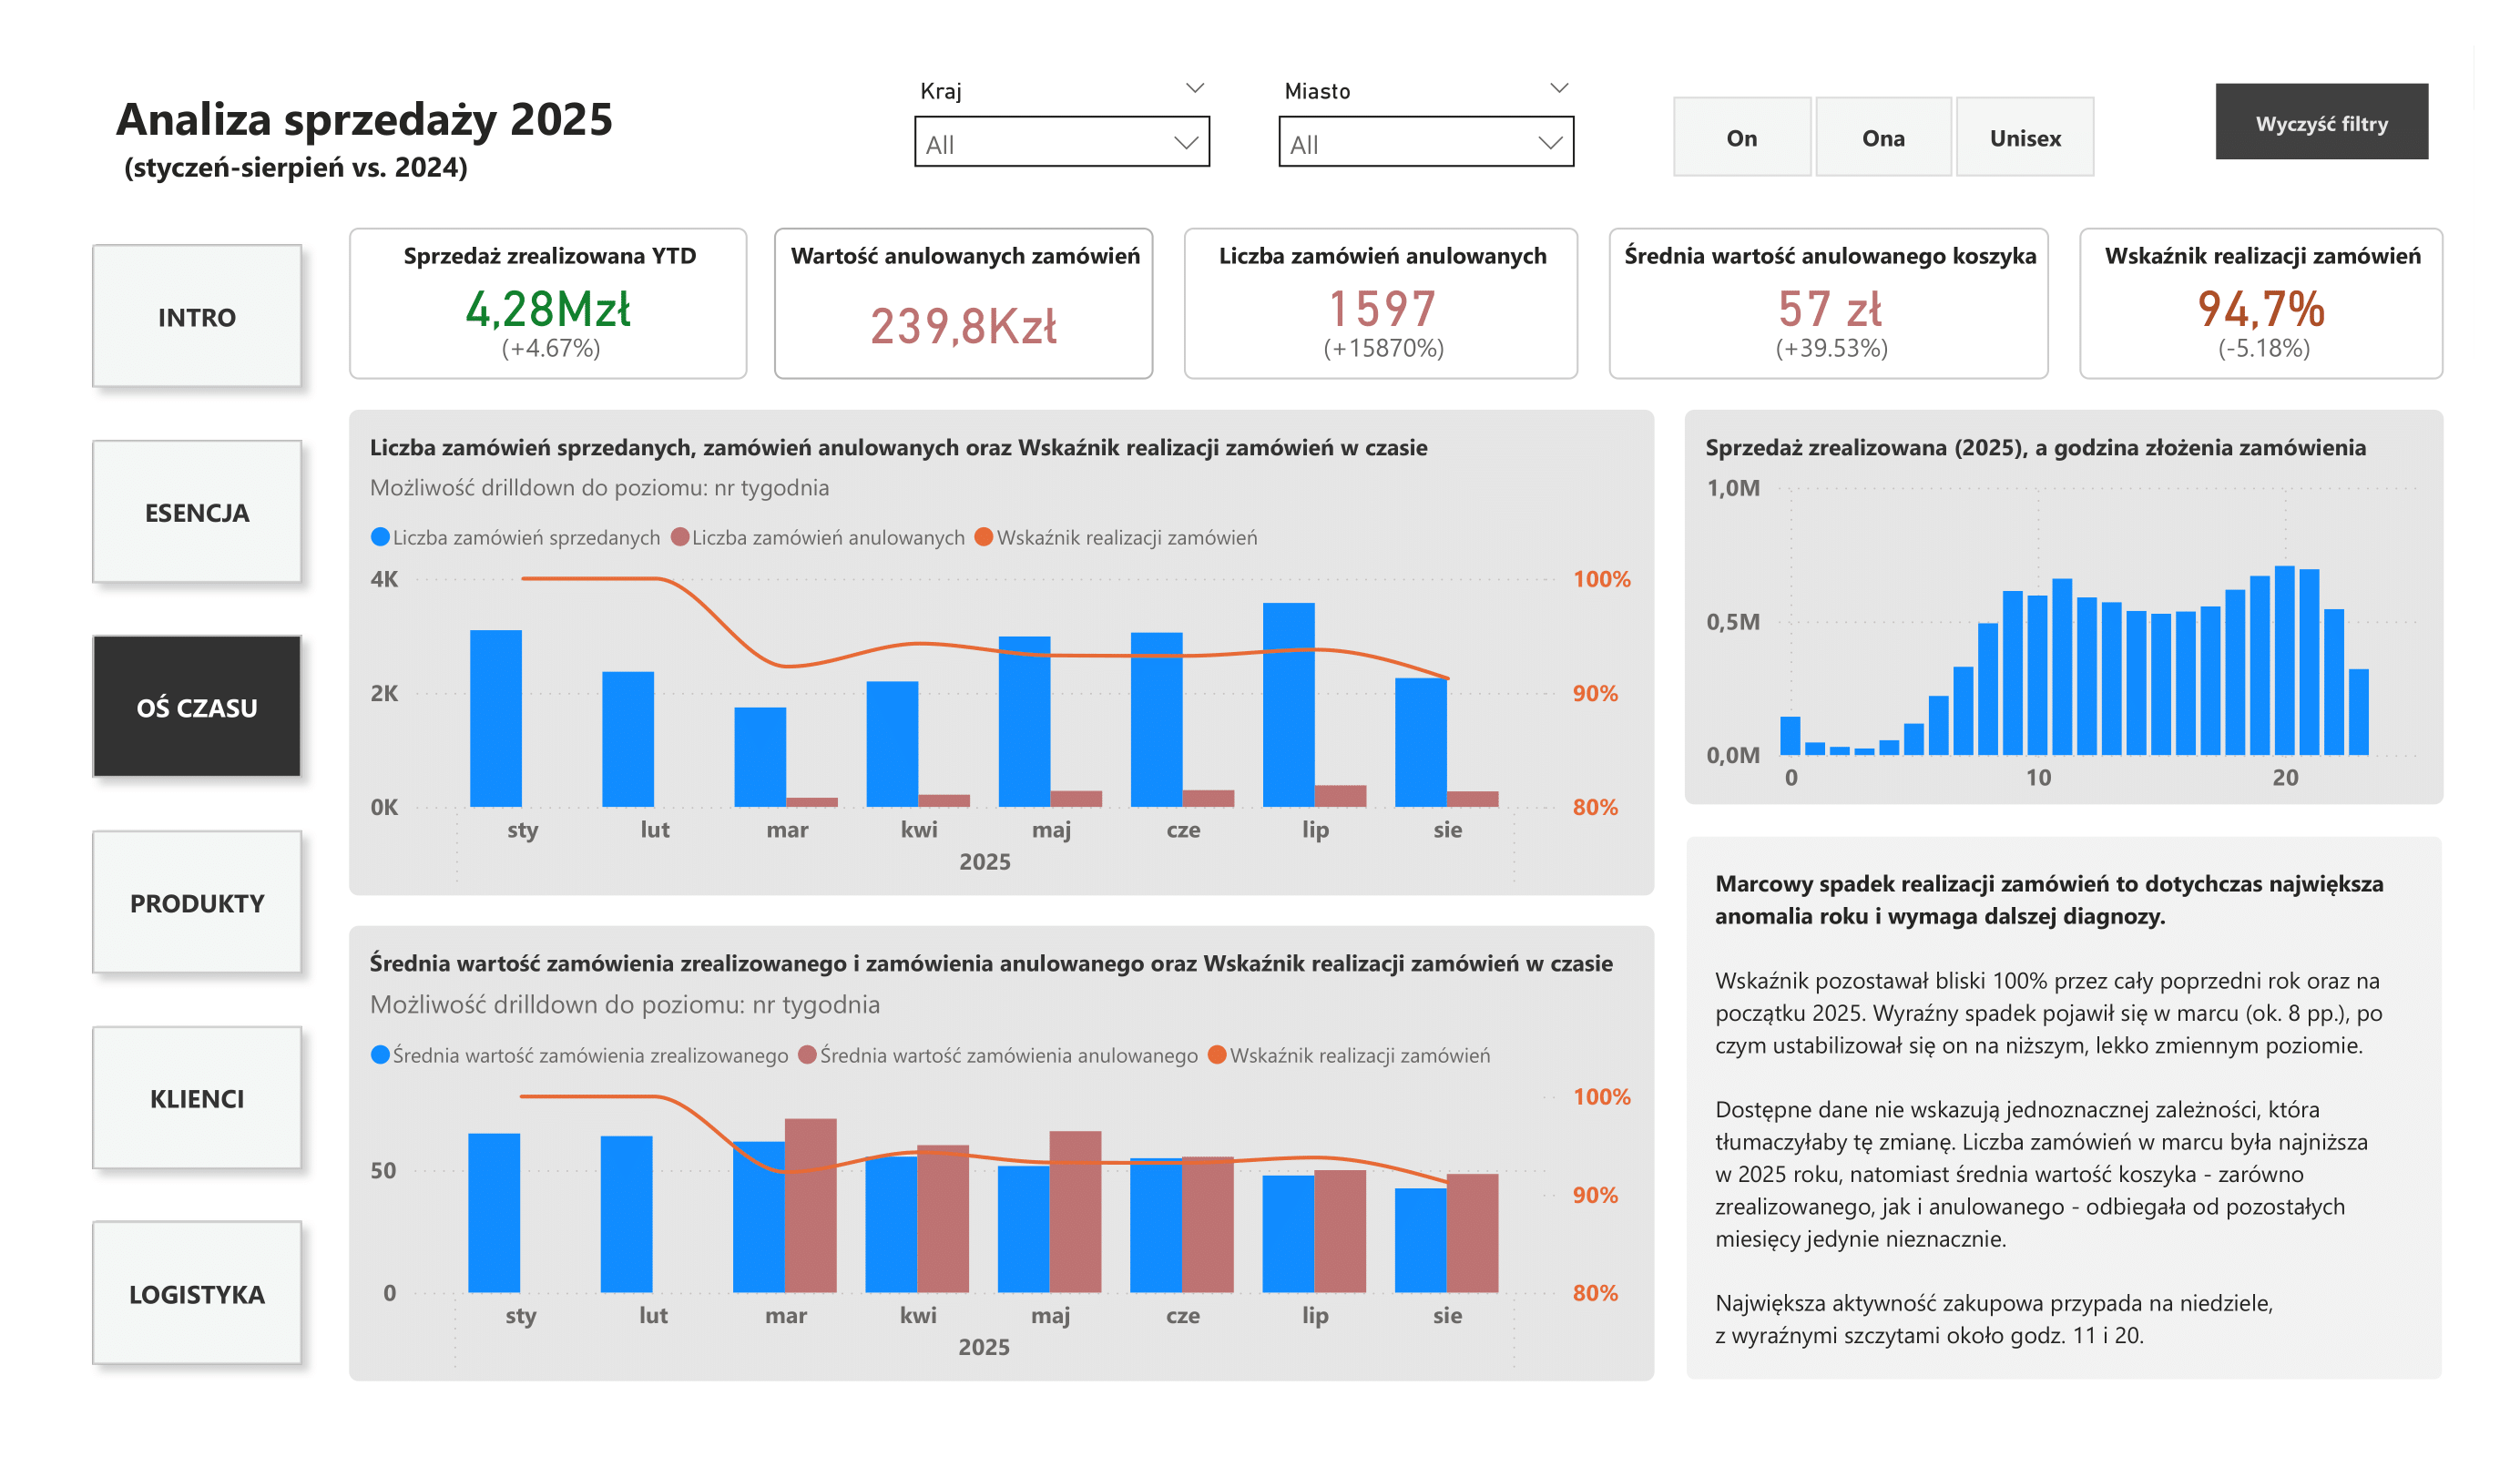

Layout of this report page (visuals, bound fields, positions):
{"tool":"powerbi","page":{"name":"OŚ CZASU","canvas":[1280,720],"ordinal":2},"visuals":[{"type":"kpi","title":"Wskaźnik realizacji zamówień","fields":{"Indicator":["Miary.Wskaznik realizacji zamowien YTD"],"Goal":["Miary.Wskaznik realizacji zamowień YTD LY czesciowy"],"TrendLine":["dKalendarz.Date Hierarchy.Rok"]},"box":[631.7,508.6,208,88],"z":0},{"type":"kpi","title":"Wskaźnik realizacji zamówień","fields":{"Indicator":["Miary.Wskaznik realizacji zamowien YTD"],"Goal":["Miary.Wskaznik realizacji zamowień YTD LY czesciowy"],"TrendLine":["dKalendarz.Date Hierarchy.Rok"]},"box":[1072,96,192,80],"z":1000,"group":"g2"},{"type":"textbox","box":[864,416,400,288],"z":2000},{"type":"slicer","fields":{"Values":["dProdukt.Dział"]},"box":[832,20,272,56],"z":3000,"group":"g1"},{"type":"card","title":"Wartość anulowanych zamówień","fields":{"Values":["Miary.Sprzedaz anulowana YTD"]},"box":[384,96,200,80],"z":3000,"group":"g2"},{"type":"kpi","title":"Sprzedaż zrealizowana YTD","fields":{"Indicator":["Miary.Sprzedaz zrealizowana YTD"],"Goal":["Miary.Sprzedaz zrealizowana YTD LY czesciowy"],"TrendLine":["dKalendarz.Date Hierarchy.Rok"]},"box":[160,96,210,80],"z":4000,"group":"g2"},{"type":"group","id":"g1","title":"Group 2","box":[448,12,816,64],"z":5000},{"type":"slicer","fields":{"Values":["dMiasto.Kraj"]},"box":[448,12,176,56],"z":6000,"group":"g1"},{"type":"textbox","box":[32,16,320,64],"z":6000},{"type":"pageNavigator","box":[16,96,128,608],"z":7000},{"type":"slicer","fields":{"Values":["dMiasto.Miasto"]},"box":[640,12,176,56],"z":8000,"group":"g1"},{"type":"columnChart","title":"Sprzedaż zrealizowana (2025), a godzina złożenia zamówienia","fields":{"Y":["Miary.Sprzedaz zrealizowana"],"Category":["fZamowienia.Godzina"]},"box":[864,192,400,208],"z":8000},{"type":"lineClusteredColumnComboChart","title":"Średnia wartość zamówienia zrealizowanego i zamówienia anulowanego oraz Wskaźnik realizacji zamówień w czasie","fields":{"Category":["dKalendarz.Date Hierarchy.Rok","dKalendarz.Date Hierarchy.Nazwa miesiąca"],"Y2":["Miary.Wskaznik realizacji zamowien"],"Y":["Miary.Srednia wartosc zamowienia zrealizowanego","Miary.Srednia wartosc zamowienia anulowanego"]},"box":[160,464,688,240],"z":9000},{"type":"actionButton","box":[1144,20,112,40],"z":10000,"group":"g1"},{"type":"lineClusteredColumnComboChart","title":"Liczba zamówień sprzedanych, zamówień anulowanych oraz Wskaźnik realizacji zamówień w czasie","fields":{"Category":["dKalendarz.Date Hierarchy.Rok","dKalendarz.Date Hierarchy.Nazwa miesiąca","dKalendarz.Date Hierarchy.Nr tygodnia"],"Y":["Miary.Liczba zamowien sprzedanych","Miary.Liczba zamowien anulowanych"],"Y2":["Miary.Wskaźnik realizacji zamówień"]},"box":[160,192,688,256],"z":10000},{"type":"kpi","title":"Liczba zamówień anulowanych","fields":{"TrendLine":["dKalendarz.Date Hierarchy.Rok"],"Goal":["Miary.Liczba zamowien anulowanych YTD LY"],"Indicator":["Miary.Liczba zamowien anulowanych YTD"]},"box":[600,96,208,80],"z":11000,"group":"g2"},{"type":"kpi","title":"Średnia wartość anulowanego koszyka","fields":{"TrendLine":["dKalendarz.Date Hierarchy.Rok"],"Indicator":["Miary.Srednia wartosc zamowienia anulowanego YTD"],"Goal":["Miary.Srednia wartosc zamowienia anulowanego YTD LY"]},"box":[824,96,232,80],"z":12000,"group":"g2"},{"type":"group","id":"g2","title":"Group 1","box":[160,96,1104,80],"z":12001}]}

Visuals, with their boxes on the page's 1280x720 design canvas (x1, y1, x2, y2). These are canvas units, not pixel positions in the 2520x1457 screenshot, which may show the page scaled, cropped or inside an application window:
"Wskaźnik realizacji zamówień" kpi: [x1=632, y1=509, x2=840, y2=597]
"Wskaźnik realizacji zamówień" kpi: [x1=1072, y1=96, x2=1264, y2=176]
textbox: [x1=864, y1=416, x2=1264, y2=704]
slicer - dProdukt.Dział: [x1=832, y1=20, x2=1104, y2=76]
"Wartość anulowanych zamówień" card: [x1=384, y1=96, x2=584, y2=176]
"Sprzedaż zrealizowana YTD" kpi: [x1=160, y1=96, x2=370, y2=176]
"Group 2" group: [x1=448, y1=12, x2=1264, y2=76]
slicer - dMiasto.Kraj: [x1=448, y1=12, x2=624, y2=68]
textbox: [x1=32, y1=16, x2=352, y2=80]
pageNavigator: [x1=16, y1=96, x2=144, y2=704]
slicer - dMiasto.Miasto: [x1=640, y1=12, x2=816, y2=68]
"Sprzedaż zrealizowana (2025), a godzina złożenia zamówienia" columnChart: [x1=864, y1=192, x2=1264, y2=400]
"Średnia wartość zamówienia zrealizowanego i zamówienia anulowanego oraz Wskaźnik realizacji zamówień w czasie" lineClusteredColumnComboChart: [x1=160, y1=464, x2=848, y2=704]
actionButton: [x1=1144, y1=20, x2=1256, y2=60]
"Liczba zamówień sprzedanych, zamówień anulowanych oraz Wskaźnik realizacji zamówień w czasie" lineClusteredColumnComboChart: [x1=160, y1=192, x2=848, y2=448]
"Liczba zamówień anulowanych" kpi: [x1=600, y1=96, x2=808, y2=176]
"Średnia wartość anulowanego koszyka" kpi: [x1=824, y1=96, x2=1056, y2=176]
"Group 1" group: [x1=160, y1=96, x2=1264, y2=176]
